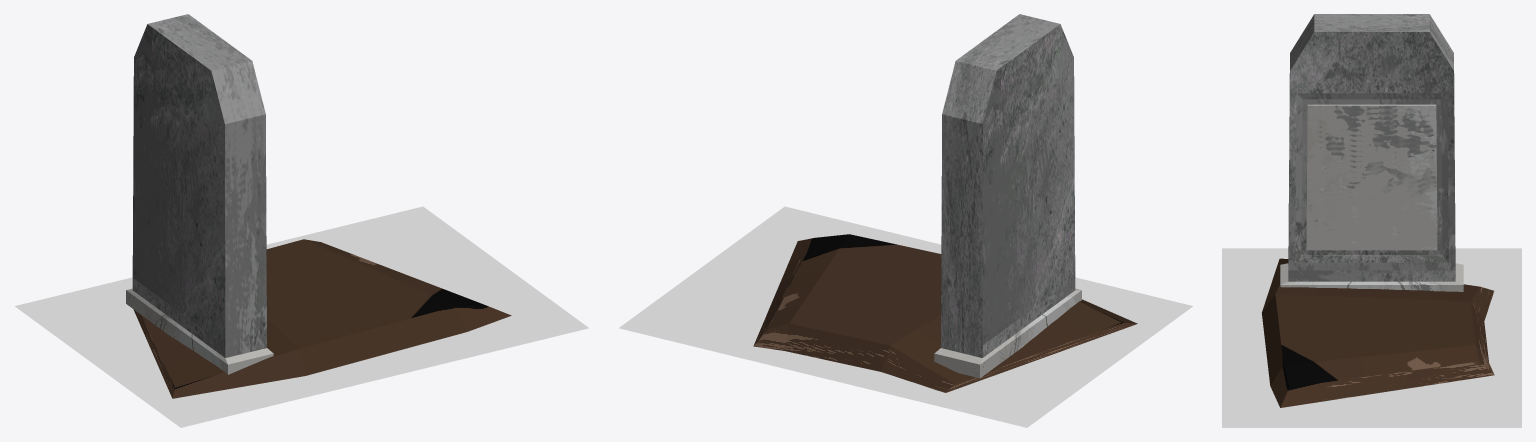
The model's file is grave_no_cross.fbx.
The picture shows the model from 3 angles, left to right: view 1: azimuth 30°, elevation 25°; view 2: azimuth 150°, elevation 25°; view 3: azimuth 270°, elevation 25°; orthographic projection. The views are drawn at different scales.
Parts seen in each view (by area): view 1: Grave, Plane.002, Dirt; view 2: Grave, Plane.002, Dirt; view 3: Grave, Plane.002, Dirt.
Part boxes in pixels (box(x1,y1,x2,y2)): Grave: box(126, 14, 273, 374); Plane.002: box(15, 206, 588, 427); Dirt: box(133, 239, 511, 398); Grave: box(934, 14, 1081, 378); Plane.002: box(619, 206, 1192, 427); Dirt: box(753, 234, 1137, 392); Grave: box(1280, 14, 1463, 291); Plane.002: box(1222, 248, 1521, 427); Dirt: box(1262, 258, 1494, 407).
Bounding box in the file's own units: 3.44 × 2.43 × 2.41.
